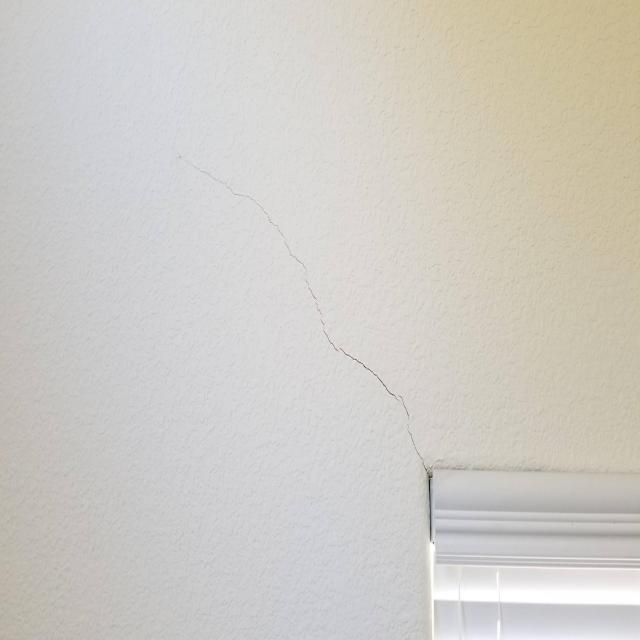crack: (175, 147, 431, 473)
